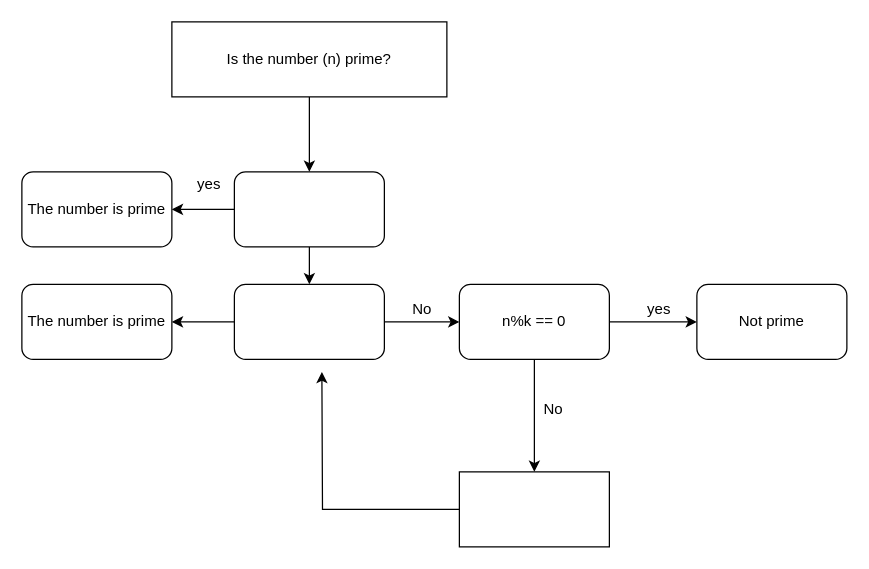
Image size: 869x569. Some labels were removed from this diagram. The shapes that lost their labels are listed below. From the top down, each one's centre as x and y in pixels, then its label:
[308,209]: Is the number less than or equal to 3 set k == 1
[308,321]: k < n
[533,509]: k = k+1
